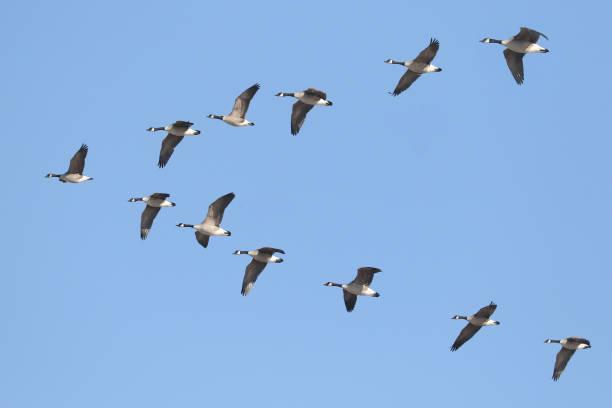Canadian-Goose: (479, 26, 552, 86), (384, 37, 443, 98), (176, 193, 235, 248), (323, 265, 387, 314), (447, 302, 503, 355), (233, 244, 286, 297), (276, 88, 333, 136), (147, 120, 201, 168), (208, 83, 261, 128), (543, 336, 593, 382), (130, 191, 176, 240), (44, 144, 94, 187)
